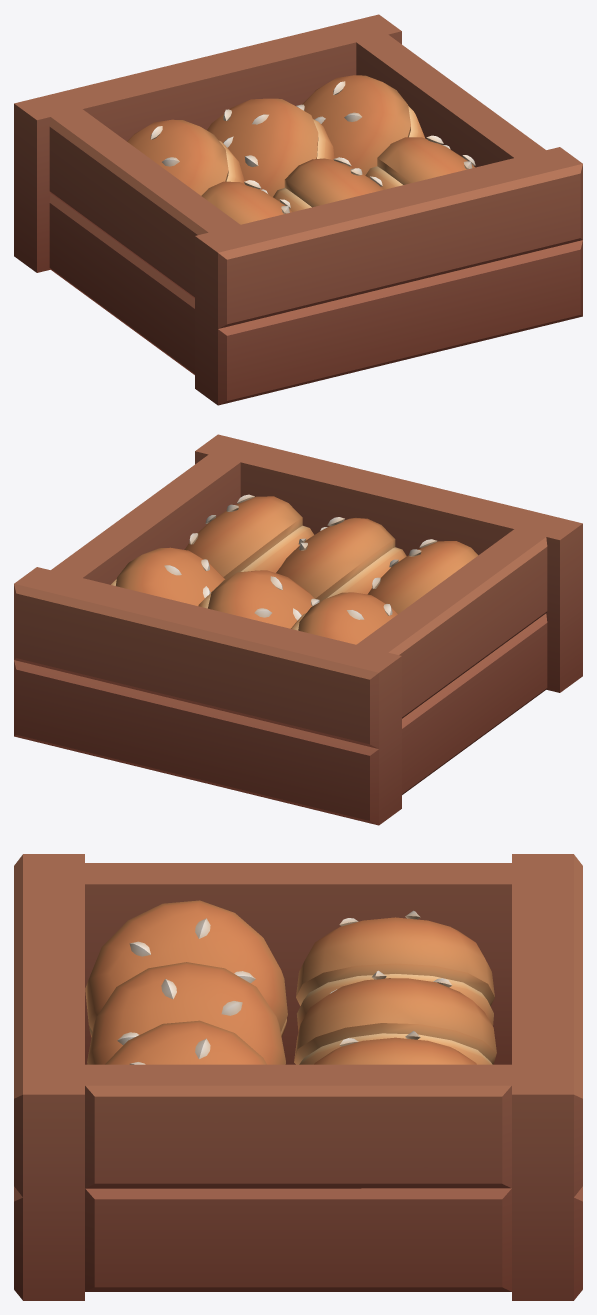
Rendered from re-crate_buns.glb.
3 views of the same model, one above another, from view 1: azimuth 30°, elevation 25°; view 2: azimuth 150°, elevation 25°; view 3: azimuth 270°, elevation 25° (orthographic). The views are drawn at different scales.
Visible parts, largest first — view 1: crate_buns; view 2: crate_buns; view 3: crate_buns.
Part boxes in pixels (x1,y1,x2,y2): crate_buns: (14, 14, 582, 405); crate_buns: (14, 434, 582, 825); crate_buns: (14, 854, 582, 1300).
Size of the model in its own units: 2 by 0.8024 by 2.
1 material, 1 textured.
